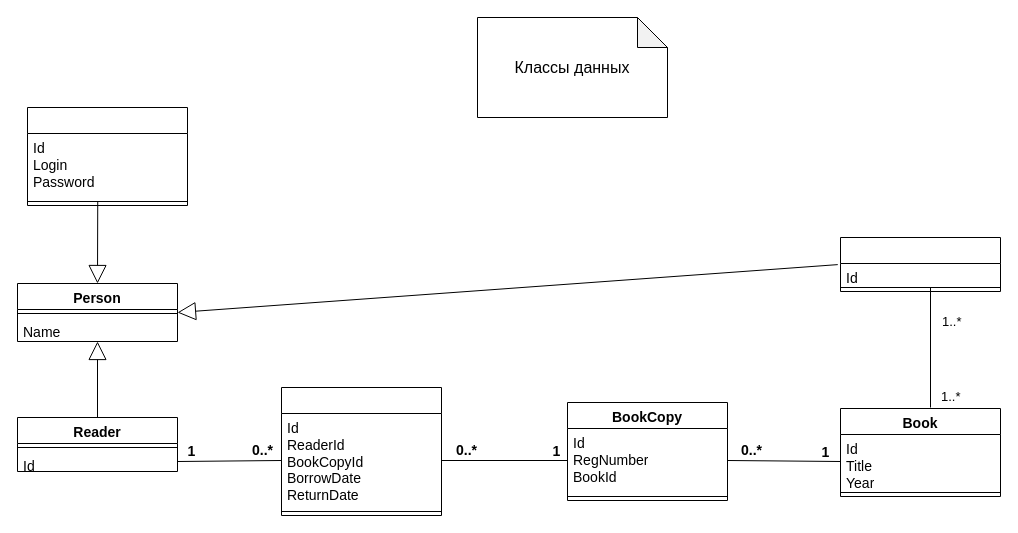
This 1018x533 diagram has some shape labels left out. The box of each missing label's shape, as (x1, y1, x2, y2) in pixels:
Author: (840, 236, 1000, 292)
Librarian: (26, 106, 188, 206)
LogEntry: (280, 386, 442, 516)
